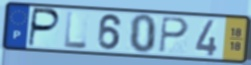0: (126, 12, 159, 55)
4: (193, 18, 219, 58)
6: (96, 13, 124, 51)
L: (63, 10, 89, 50)
P: (26, 7, 62, 49), (157, 15, 190, 55)
